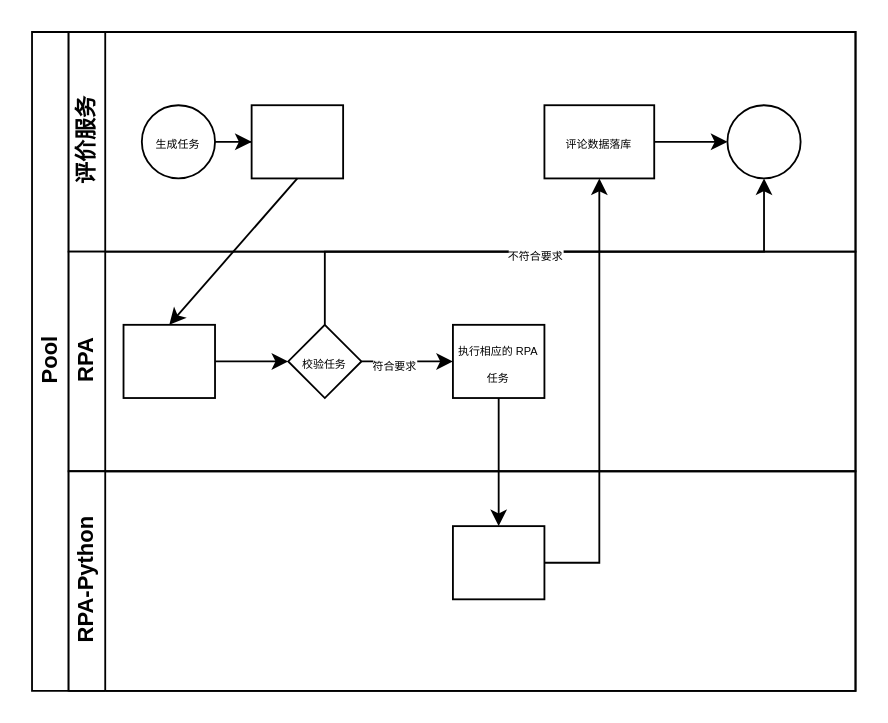
This 888x723 diagram has some shape labels left out. The centre of each missing label's shape, as x and y in pixels:
"任务存入数据库" belongs at point 296,140.
"循环拉取任务" belongs at point 168,360.
"数据处理" belongs at point 497,561.
"结束" belongs at point 763,140.
